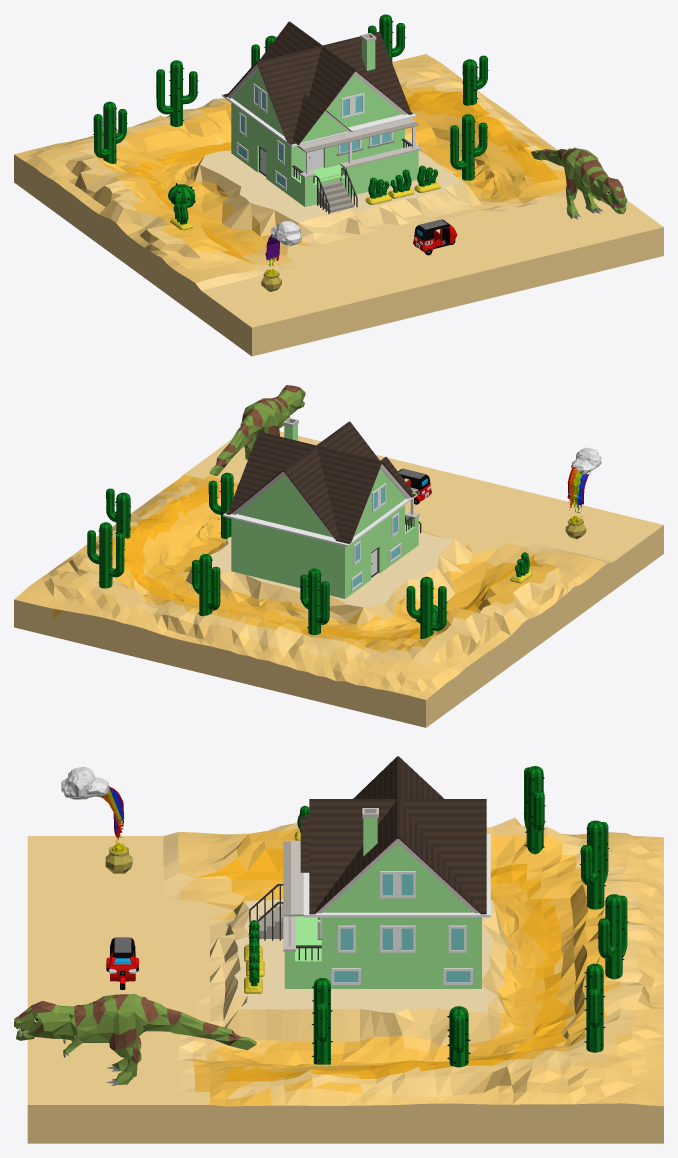
The picture shows the model from 3 angles, top to bottom: view 1: azimuth 30°, elevation 25°; view 2: azimuth 150°, elevation 25°; view 3: azimuth 270°, elevation 25°; orthographic projection. The views are drawn at different scales.
Parts seen in each view (by area): view 1: Cube.001, Cube.274, ANIMAL_TREX, Cylinder.044, Cylinder.037, Cylinder.045, OBJRANDOM_RAINBOW, VEHICLES_TUC_TUC, Cylinder.038, Cylinder.042, Cylinder.039, Cylinder.041 (+1 smaller); view 2: Cube.001, Cube.274, ANIMAL_TREX, Cylinder.042, Cylinder.045, OBJRANDOM_RAINBOW, Cylinder.044, Cylinder.043, Cylinder.037, Cylinder.038, VEHICLES_TUC_TUC; view 3: Cube.001, Cube.274, ANIMAL_TREX, OBJRANDOM_RAINBOW, Cylinder.043, Cylinder.044, Cylinder.045, Cylinder.042, Cylinder.037, VEHICLES_TUC_TUC, Cylinder.038, Cylinder.041.
Part boxes in pixels (box(x1,y1,x2,y2)): Cube.001: box(14, 54, 663, 356); Cube.274: box(222, 21, 421, 213); ANIMAL_TREX: box(531, 147, 627, 219); Cylinder.044: box(156, 60, 198, 126); Cylinder.037: box(449, 114, 488, 180); Cylinder.045: box(93, 101, 127, 163); OBJRANDOM_RAINBOW: box(261, 221, 301, 291); VEHICLES_TUC_TUC: box(413, 219, 457, 255); Cylinder.038: box(462, 55, 488, 105); Cylinder.042: box(368, 14, 405, 62); Cylinder.039: box(365, 177, 391, 204); Cylinder.041: box(414, 165, 440, 192); Cube.001: box(14, 431, 663, 727); Cube.274: box(223, 417, 421, 598); ANIMAL_TREX: box(209, 385, 305, 475); Cylinder.042: box(87, 522, 125, 588); Cylinder.045: box(406, 576, 447, 638); OBJRANDOM_RAINBOW: box(565, 447, 601, 539); Cylinder.044: box(300, 568, 329, 634); Cylinder.043: box(191, 554, 220, 616); Cylinder.037: box(208, 472, 238, 538); Cylinder.038: box(106, 488, 130, 538); VEHICLES_TUC_TUC: box(398, 468, 431, 504); Cube.001: box(27, 817, 663, 1143); Cube.274: box(249, 756, 490, 988); ANIMAL_TREX: box(14, 994, 256, 1085); OBJRANDOM_RAINBOW: box(61, 767, 132, 873); Cylinder.043: box(597, 894, 628, 979); Cylinder.044: box(580, 820, 609, 909); Cylinder.045: box(524, 766, 545, 854); Cylinder.042: box(584, 963, 605, 1052); Cylinder.037: box(311, 978, 332, 1064); VEHICLES_TUC_TUC: box(106, 937, 138, 989); Cylinder.038: box(447, 1006, 470, 1067); Cylinder.041: box(244, 952, 262, 993).
Bounding box in the file's own units: 4002 × 1600 × 4088.
Materials: 40 (2 with a texture image).
